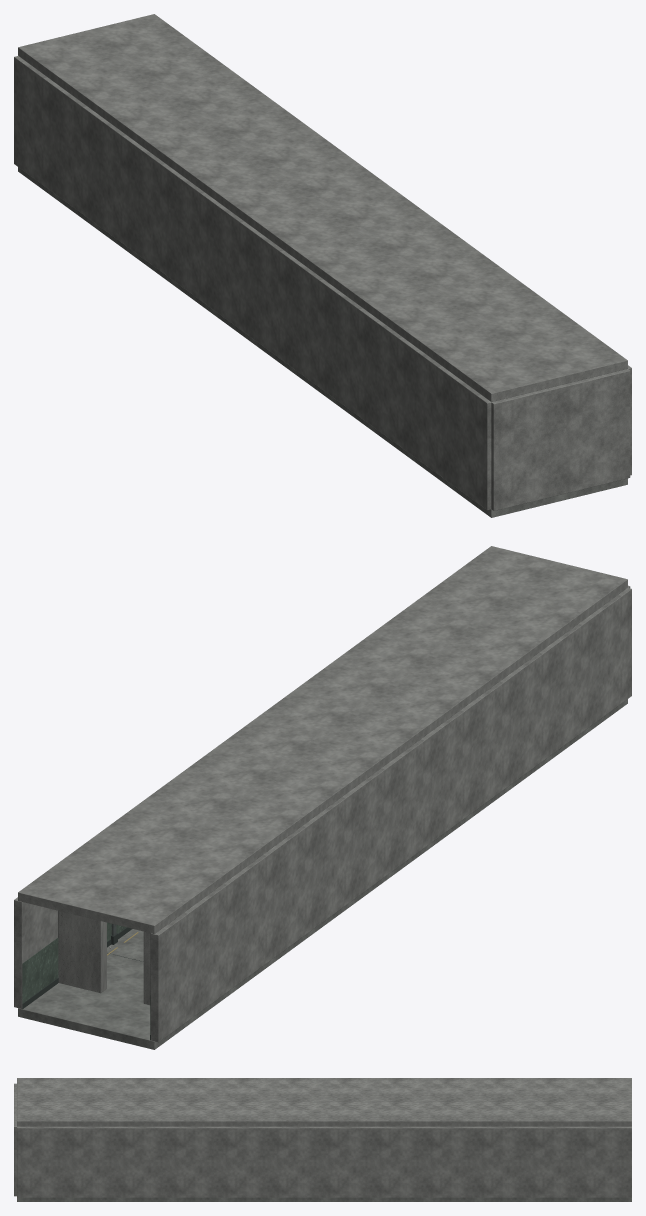
File: Warehouse.fbx
3 views of the same model, one above another, from view 1: azimuth 30°, elevation 25°; view 2: azimuth 150°, elevation 25°; view 3: azimuth 270°, elevation 25° (orthographic). The views are drawn at different scales.
Visible parts, largest first — view 1: Ceiling, RightWall, FarWall, Floor; view 2: Ceiling, RightWall, Floor, LeftWall, NearCoverLeft; view 3: LeftWall, Ceiling, Floor, FarWall.
Boxes of the visible parts, bbox=[...] form: Ceiling: bbox=[18, 14, 627, 401]; RightWall: bbox=[14, 56, 491, 510]; FarWall: bbox=[491, 369, 630, 510]; Floor: bbox=[18, 167, 627, 517]; Ceiling: bbox=[18, 546, 627, 933]; RightWall: bbox=[150, 588, 631, 1042]; Floor: bbox=[18, 699, 627, 1049]; LeftWall: bbox=[14, 897, 132, 1008]; NearCoverLeft: bbox=[58, 910, 106, 993]; LeftWall: bbox=[17, 1126, 631, 1197]; Ceiling: bbox=[17, 1078, 631, 1126]; Floor: bbox=[17, 1197, 631, 1201]; FarWall: bbox=[14, 1083, 16, 1196].
Bounding box in the file's own units: 424 × 348 × 2412.
